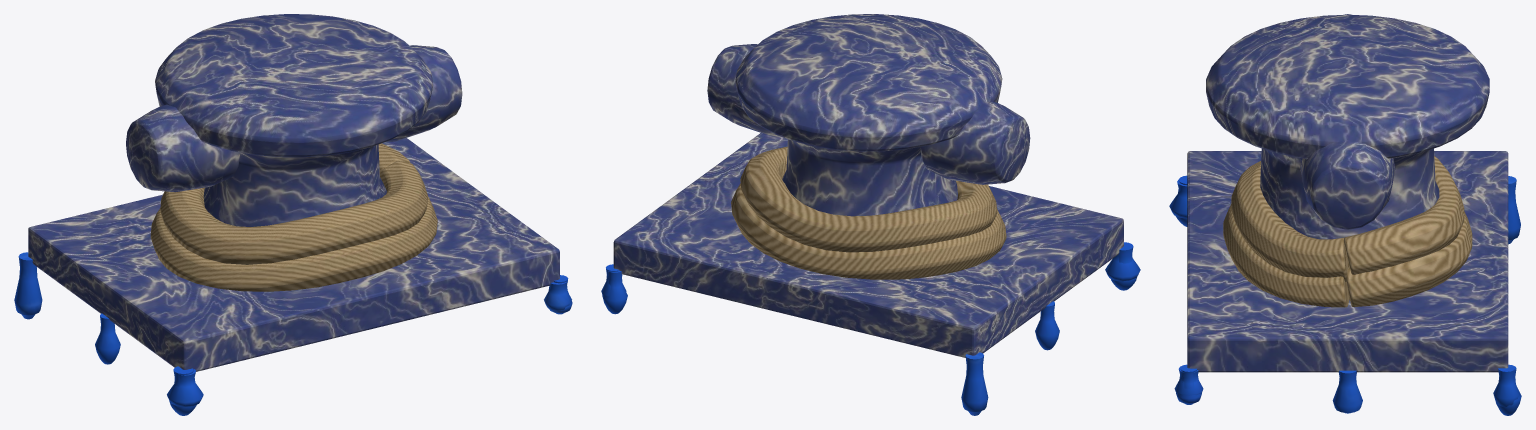
The model's file is cleat.glb.
The picture shows the model from 3 angles, left to right: view 1: azimuth 30°, elevation 25°; view 2: azimuth 150°, elevation 25°; view 3: azimuth 270°, elevation 25°; orthographic projection. The views are drawn at different scales.
Visible parts, largest first — view 1: cleat; view 2: cleat; view 3: cleat.
Boxes of the visible parts, x1,y1,x2,y2 form: cleat: [14, 14, 572, 415]; cleat: [601, 14, 1140, 415]; cleat: [1169, 14, 1521, 415].
Size of the model in its own units: 0.6444 by 0.42 by 0.4775.
Materials: 1 (1 with a texture image).
